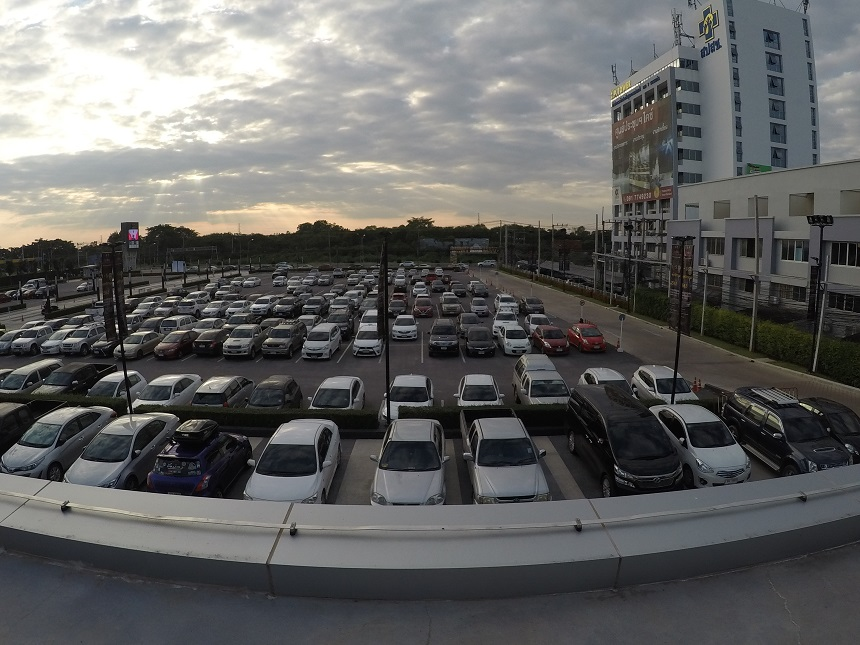busy: (590, 440, 683, 486), (465, 453, 552, 499), (247, 452, 333, 497), (370, 454, 450, 495), (165, 442, 239, 480), (685, 442, 752, 482), (90, 432, 155, 473), (19, 422, 77, 457), (780, 440, 846, 464), (317, 375, 363, 406), (636, 370, 688, 395), (388, 377, 436, 404), (521, 372, 570, 398), (457, 376, 501, 403), (573, 364, 622, 387), (251, 379, 297, 403), (200, 377, 241, 402), (145, 377, 186, 400), (46, 371, 86, 391), (103, 372, 136, 396), (260, 338, 295, 360), (828, 407, 860, 431), (303, 338, 337, 359), (349, 340, 385, 359), (575, 330, 607, 351), (427, 339, 462, 358), (152, 337, 185, 356), (225, 335, 254, 356), (540, 336, 570, 355), (503, 337, 534, 355), (115, 340, 145, 358), (190, 335, 218, 354), (466, 339, 496, 356), (10, 367, 35, 386), (59, 338, 88, 354), (1, 404, 19, 424), (16, 335, 35, 352), (91, 340, 112, 355), (40, 344, 57, 355), (1, 336, 12, 348)
